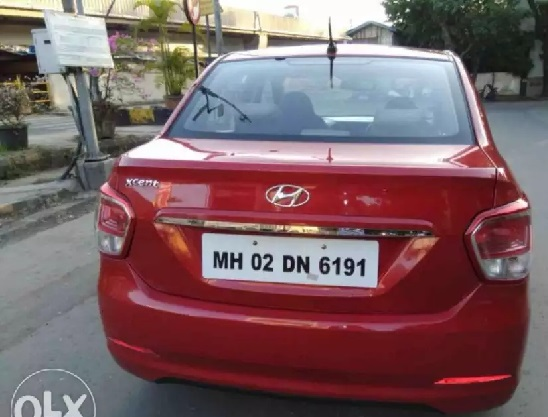licenseplate: (201, 229, 381, 292)
